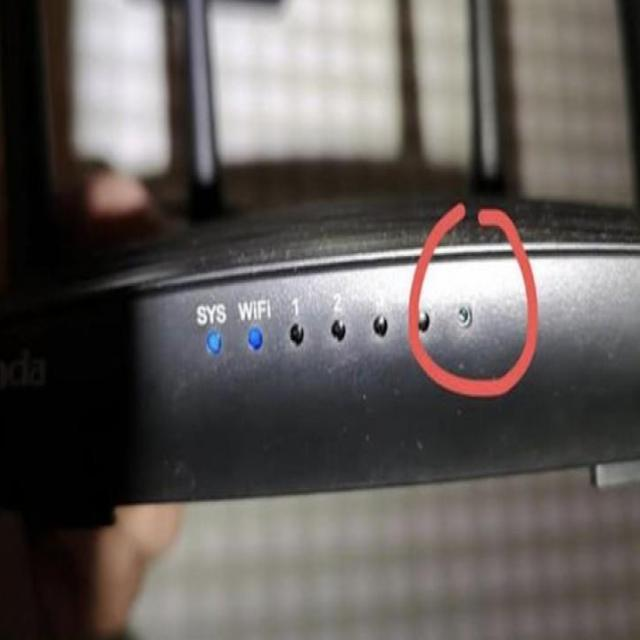hidden camera: (459, 305, 470, 324)
